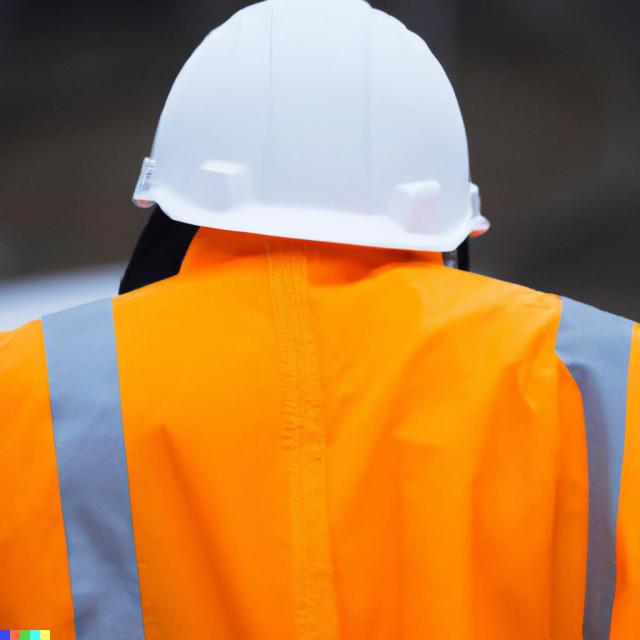Reflective-Jacket: (14, 246, 640, 636)
Safety-Helmet: (130, 4, 494, 248)
